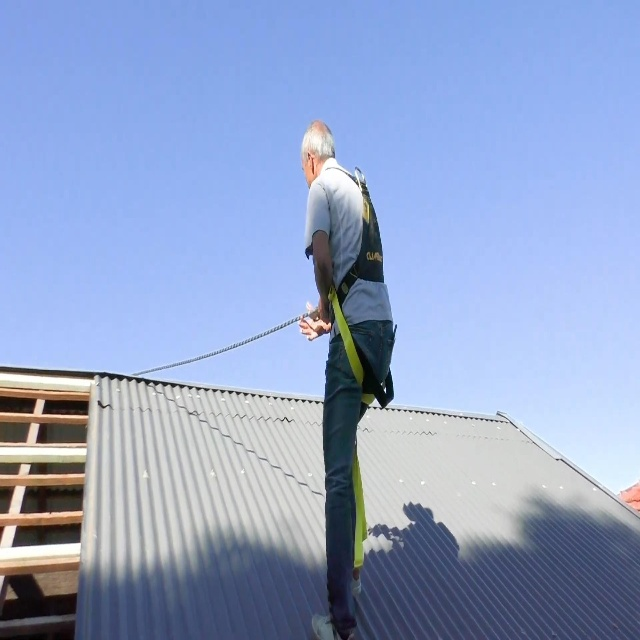Arnes_seguridad: (315, 151, 396, 571)
